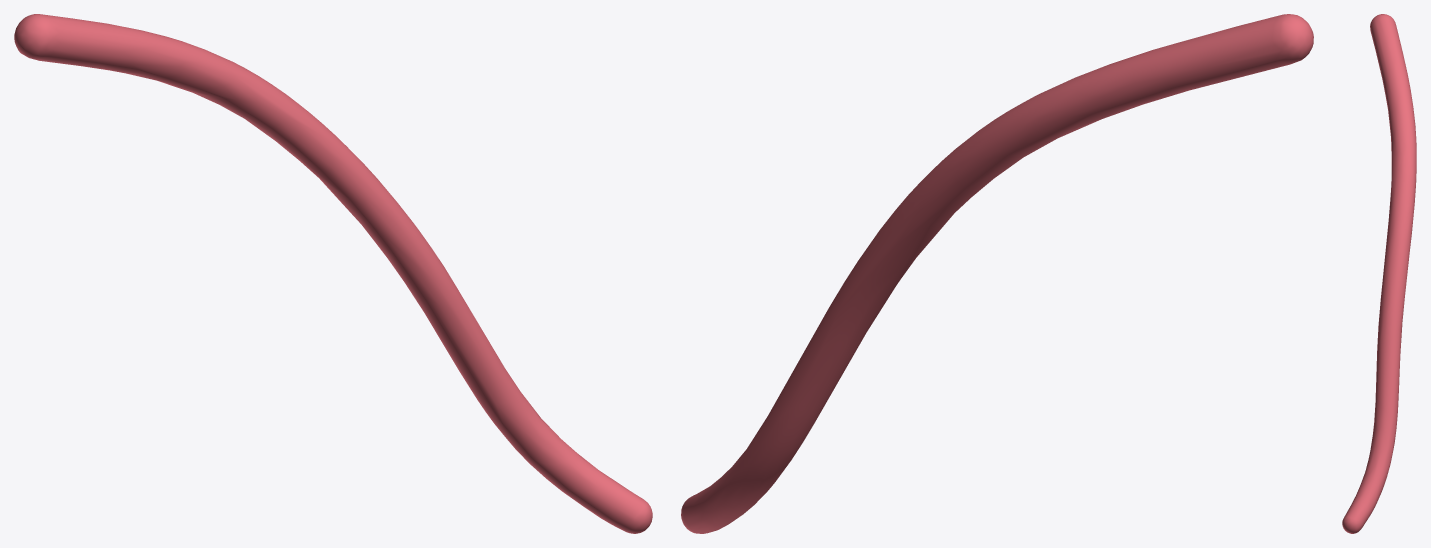
Rendered from fma69491_fj2081.glb.
The picture shows the model from 3 angles, left to right: view 1: azimuth 30°, elevation 25°; view 2: azimuth 150°, elevation 25°; view 3: azimuth 270°, elevation 25°; orthographic projection. The views are drawn at different scales.
Visible parts, largest first — view 1: FMA69491_FJ2081; view 2: FMA69491_FJ2081; view 3: FMA69491_FJ2081.
Part boxes in pixels (x1,y1,x2,y2): FMA69491_FJ2081: (14, 14, 652, 533); FMA69491_FJ2081: (681, 14, 1313, 533); FMA69491_FJ2081: (1342, 14, 1416, 533).
Size of the model in its own units: 0.0448 by 0.0449 by 0.00841.
